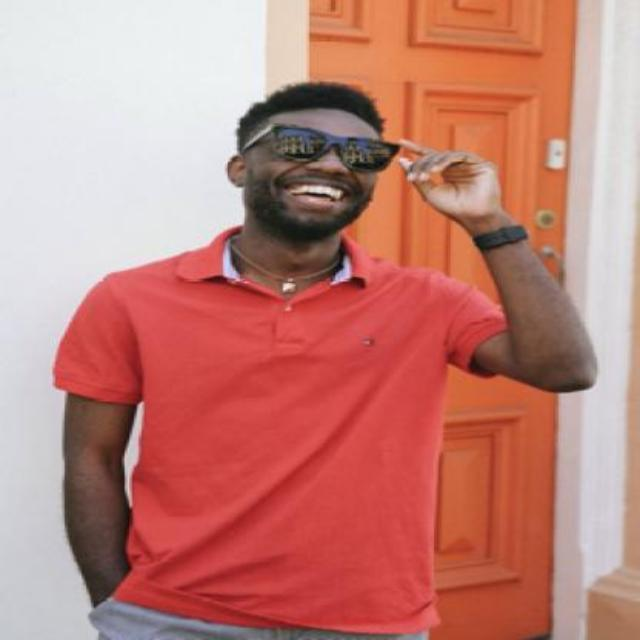glasses: (236, 121, 400, 170)
